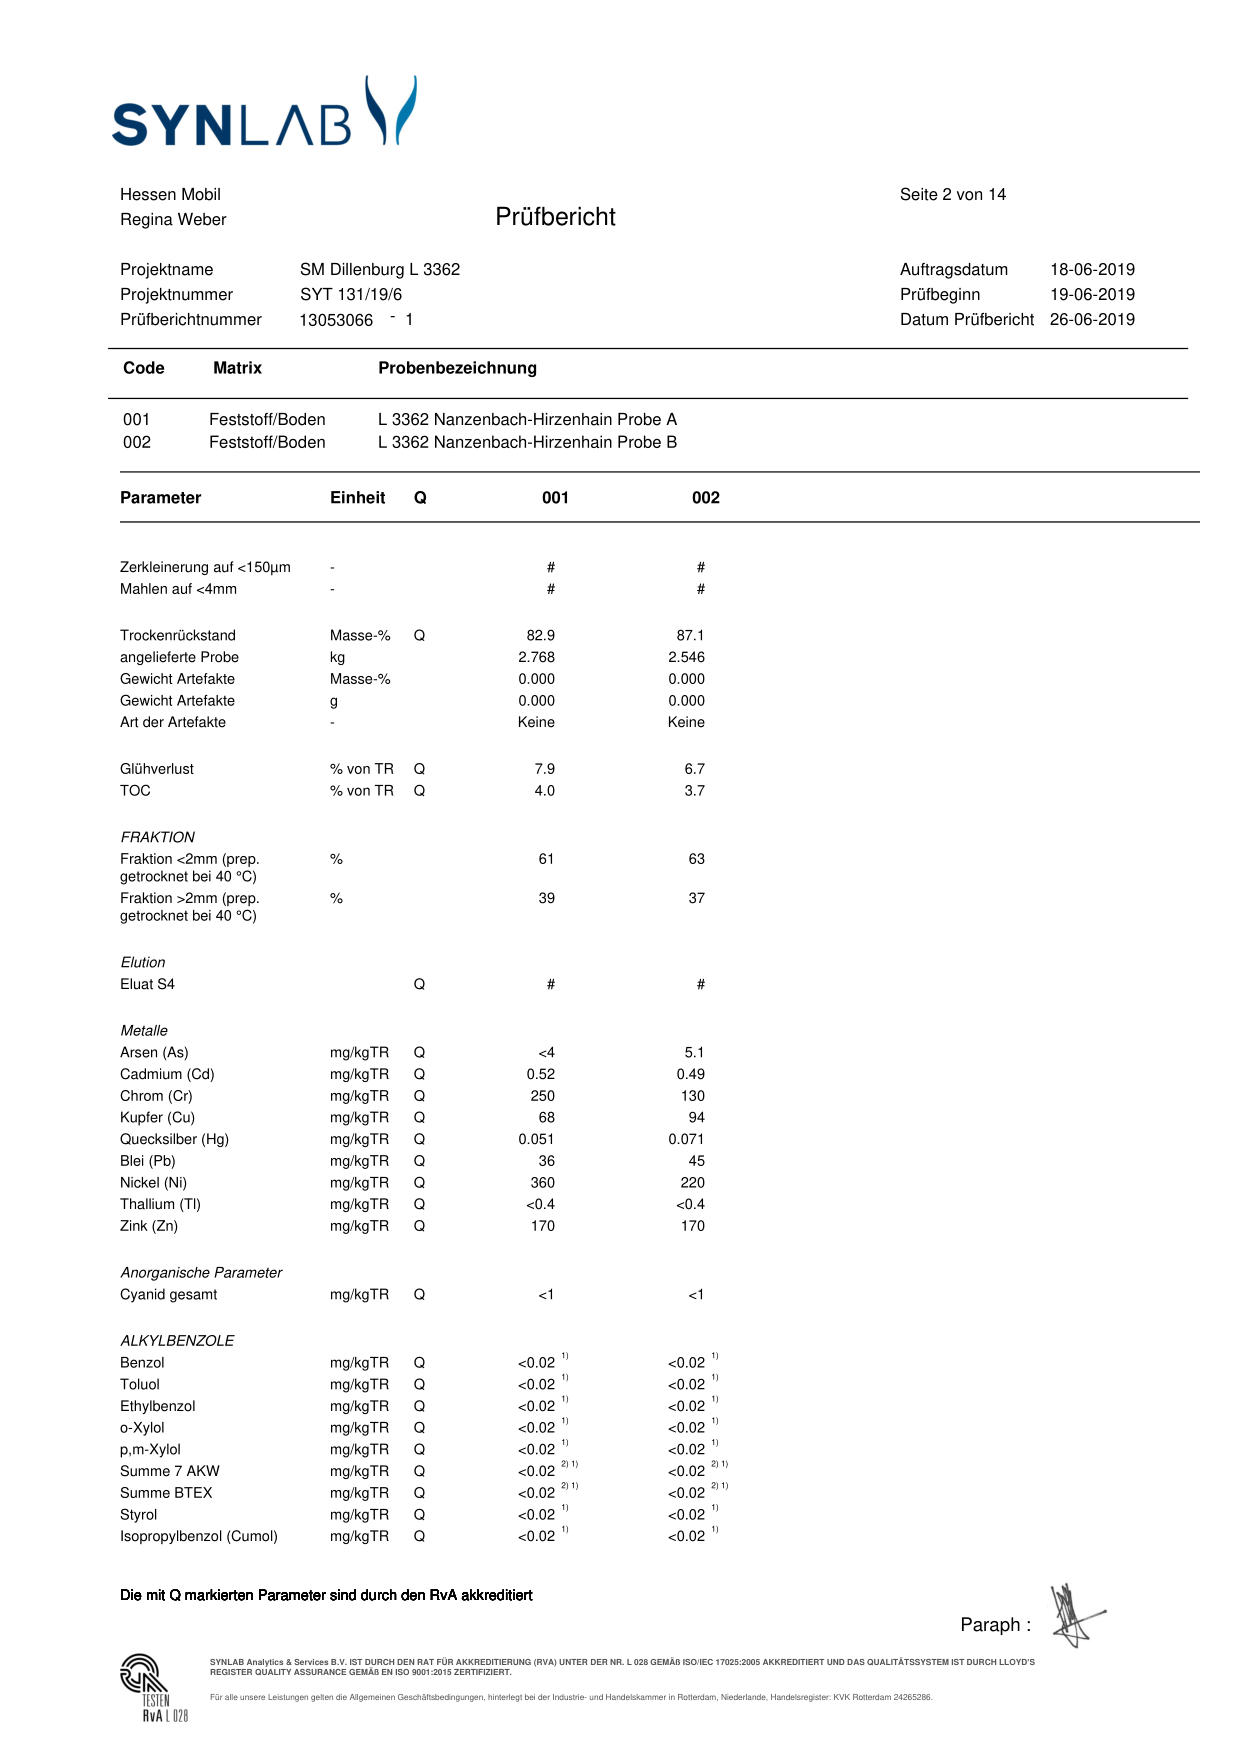table: (99, 543, 762, 933), (102, 1326, 762, 1561), (109, 1019, 752, 1240), (102, 950, 753, 995), (105, 1266, 762, 1305)
